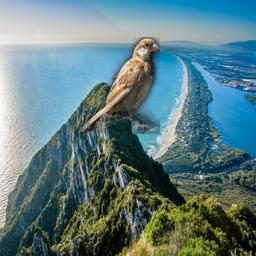Sparrow: (78, 37, 160, 134)
